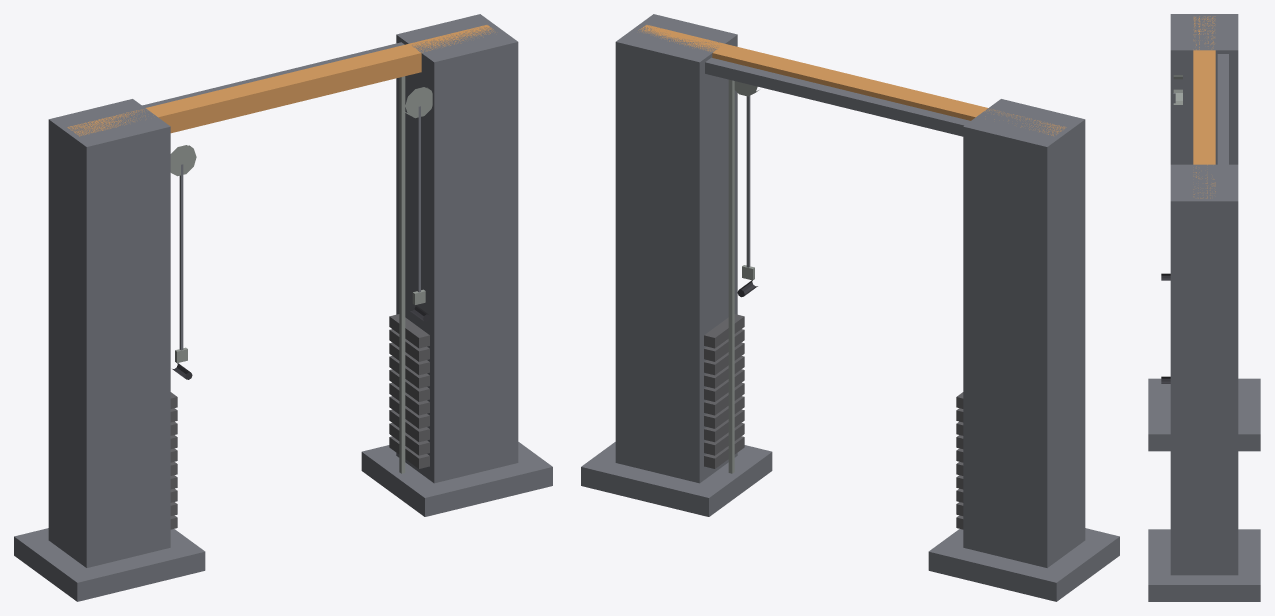
File: cable_station.glb
The picture shows the model from 3 angles, left to right: view 1: azimuth 30°, elevation 25°; view 2: azimuth 150°, elevation 25°; view 3: azimuth 270°, elevation 25°; orthographic projection. The views are drawn at different scales.
Visible parts, largest first — view 1: cables; view 2: cables; view 3: cables.
Boxes of the visible parts, left/top/right/bottom form: cables: left=14, top=14, right=552, bottom=601; cables: left=581, top=14, right=1119, bottom=601; cables: left=1148, top=14, right=1260, bottom=601.
Bounding box in the file's own units: 2.6 × 2.3 × 0.6.
